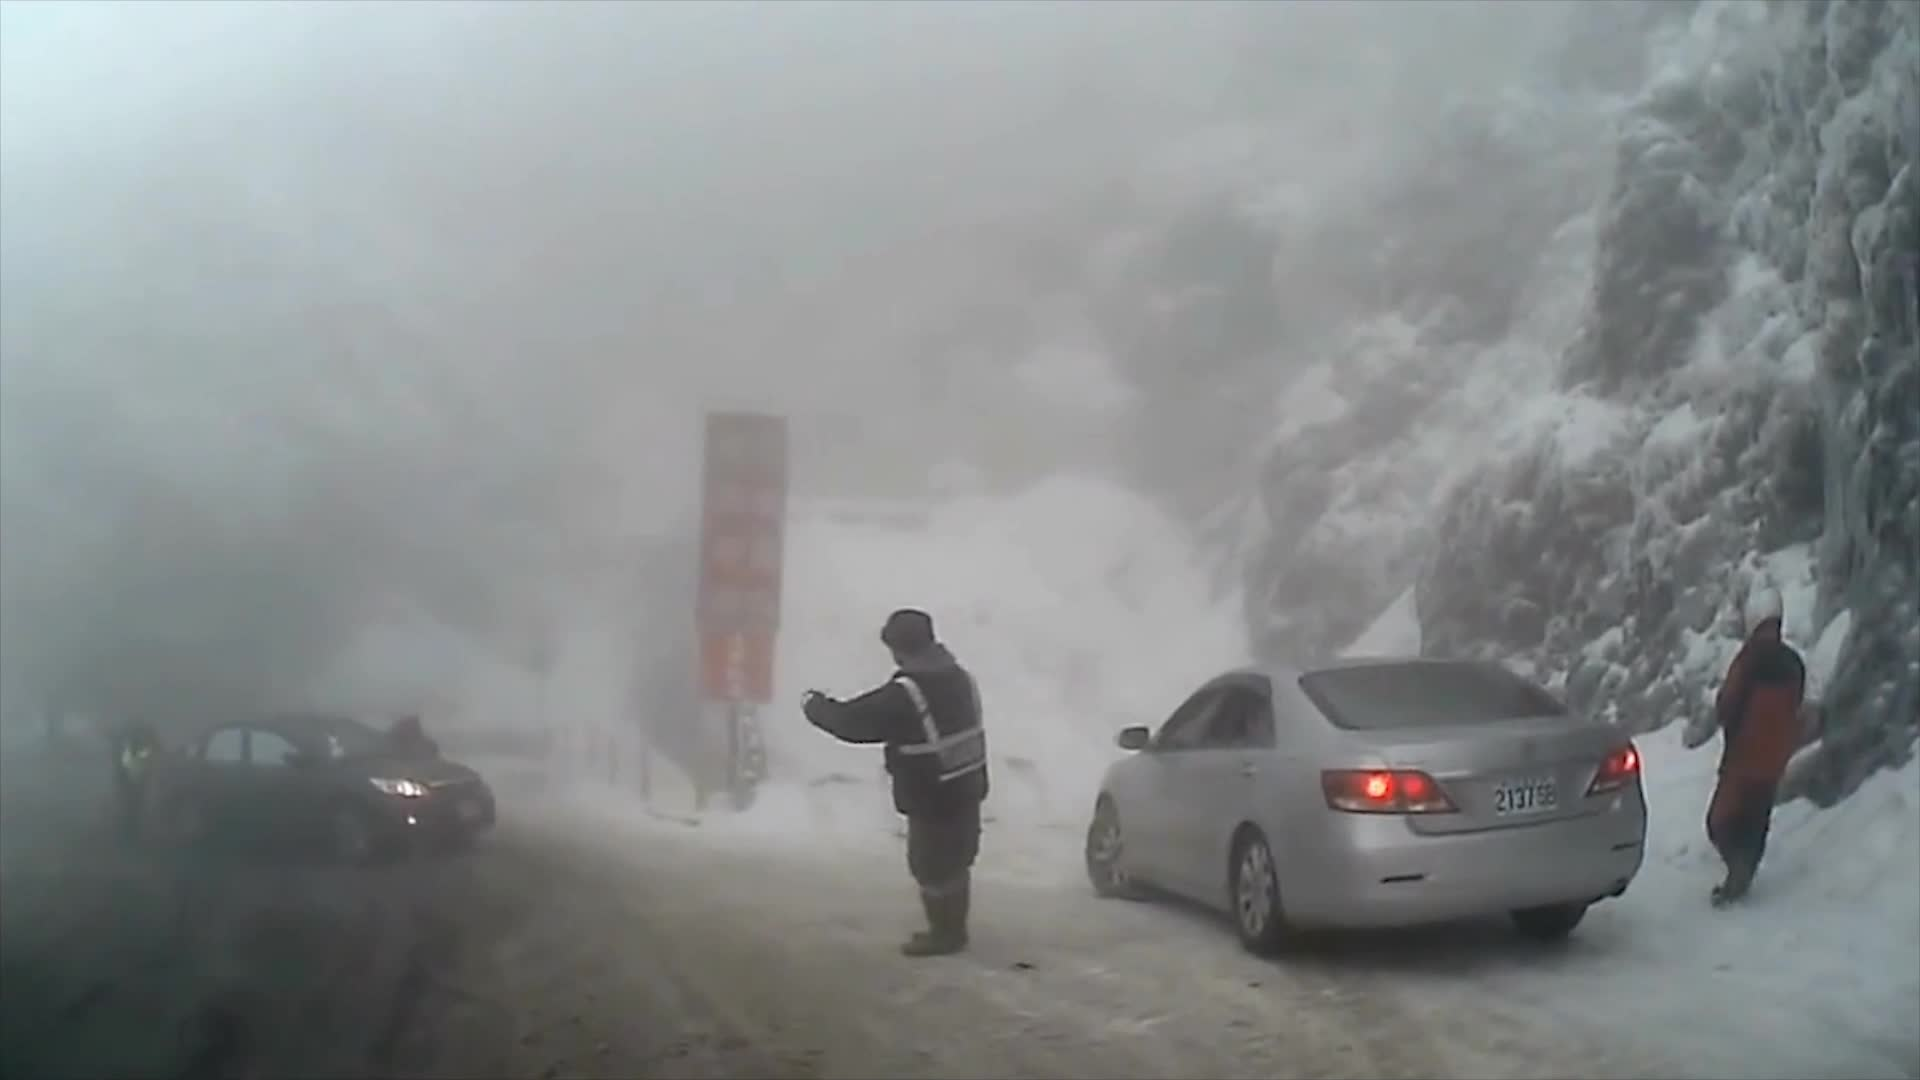pedestrian: (794, 598, 996, 946), (1700, 586, 1810, 905)
vehicle: (1082, 655, 1647, 957), (150, 707, 498, 868)
